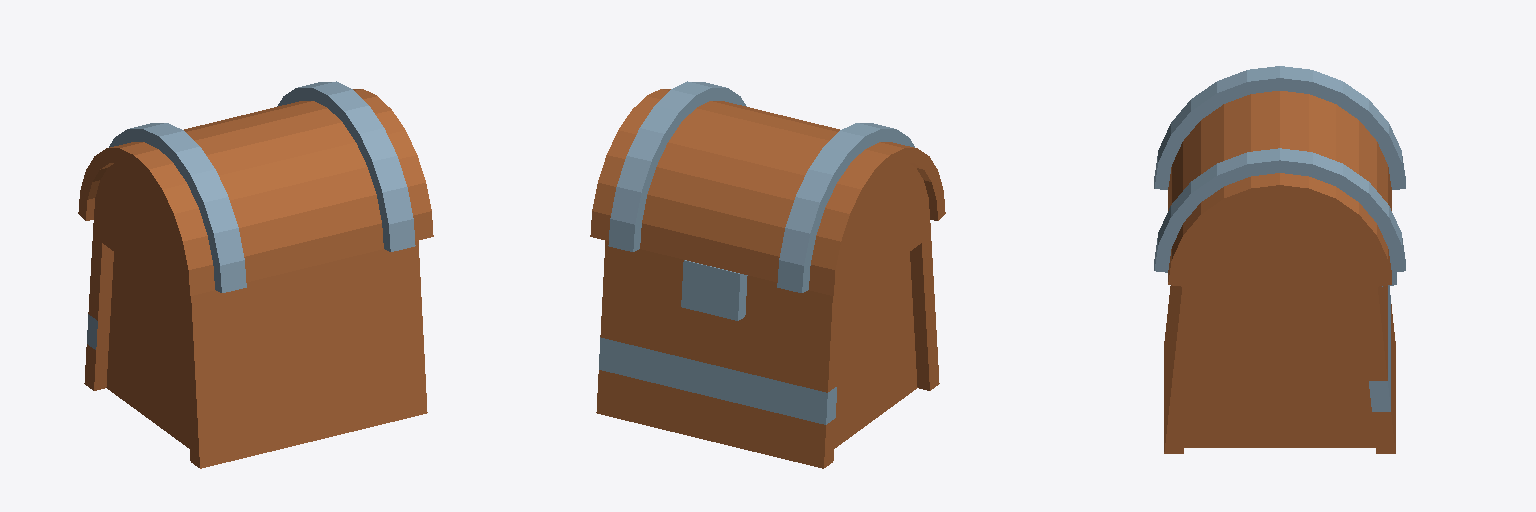
Rendered from chest.obj.
3 views of the same model, side by side, from view 1: azimuth 30°, elevation 25°; view 2: azimuth 150°, elevation 25°; view 3: azimuth 270°, elevation 25° (orthographic).
Visible parts, largest first — view 1: chest, lid; view 2: chest, lid; view 3: lid, chest.
Boxes of the visible parts, x1=… form: chest: x1=84, y1=220, x2=427, y2=468; lid: x1=78, y1=81, x2=433, y2=295; chest: x1=596, y1=220, x2=939, y2=468; lid: x1=590, y1=81, x2=945, y2=295; lid: x1=1154, y1=66, x2=1405, y2=286; chest: x1=1164, y1=272, x2=1396, y2=453.
Size of the model in its own units: 4.9 by 5.49 by 4.38.